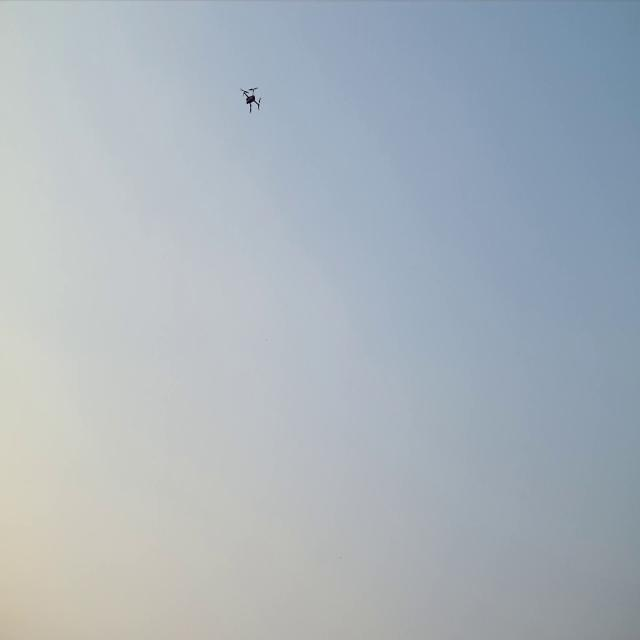UAV: (238, 85, 264, 115)
